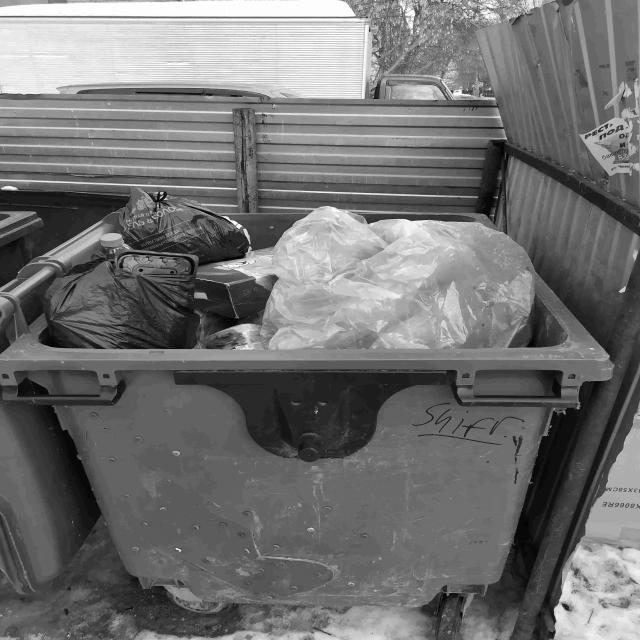Trashcan: (42, 141, 594, 640)
